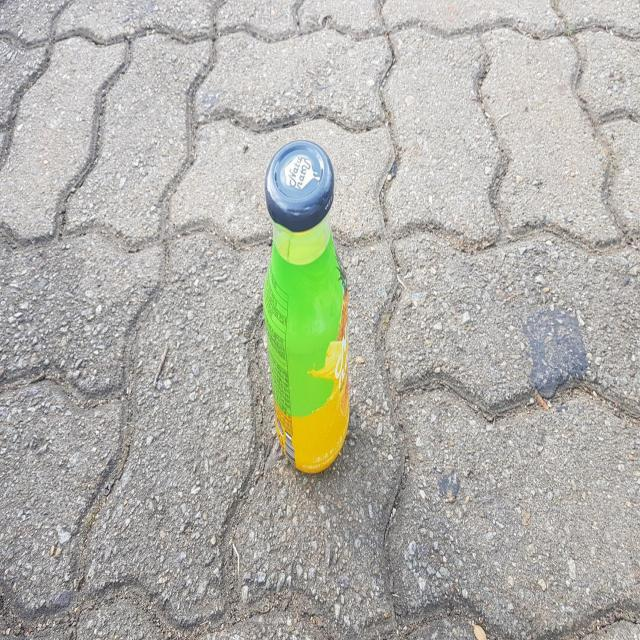glass: (263, 140, 350, 473)
